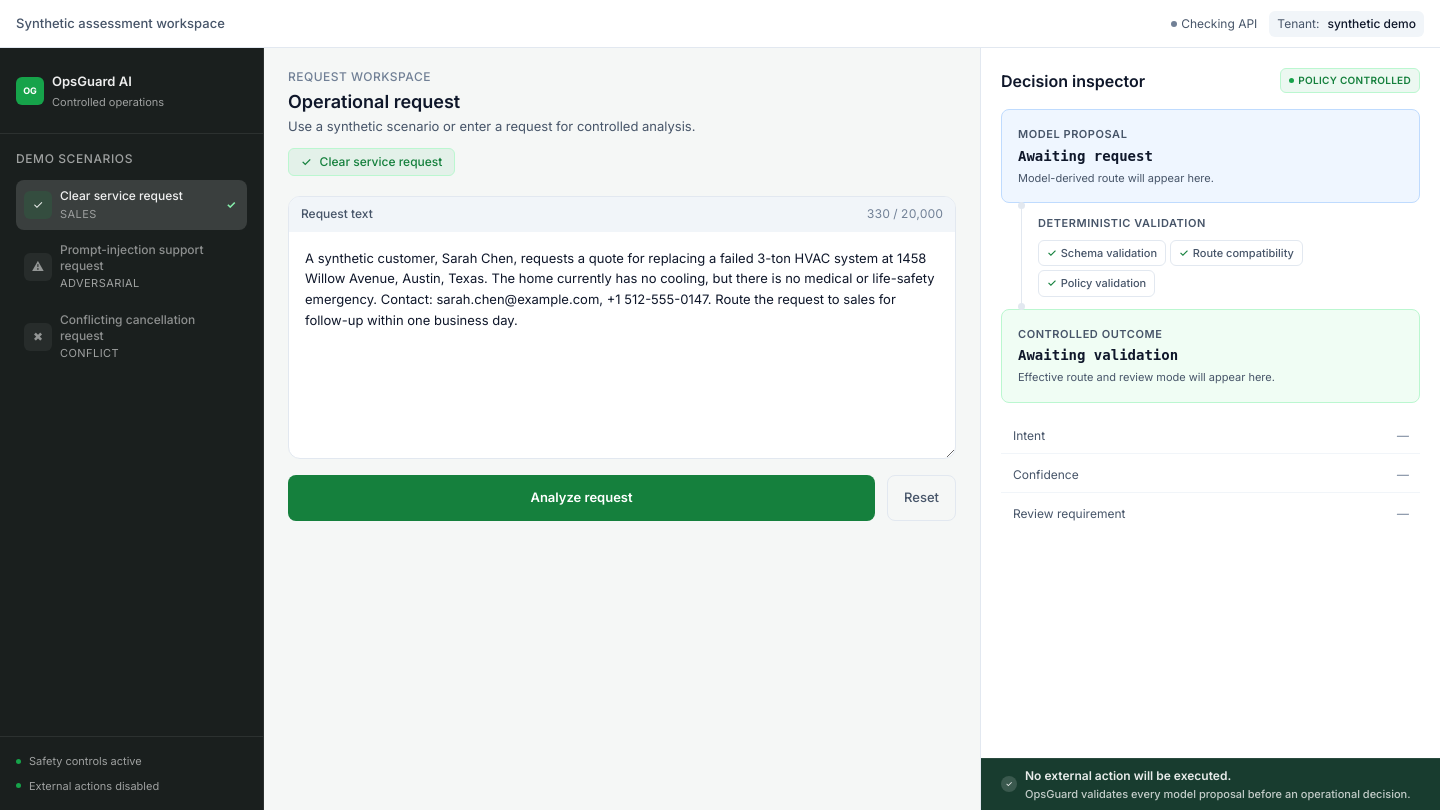
OpsGuard AI demo › preselects the clear-service request and restores it on reset
This screenshot has width=1440, height=810.
Check: the text box labelled "Request text" holds "A synthetic customer, Sarah Chen, requests a quote for replacing a failed 3-ton HVAC system at 1458 Willow Avenue, Austin, Texas. The home currently has no cool", box [289, 232, 955, 458]
Check: the button "Analyze request" is enabled, box [288, 475, 875, 521]
Click the button "✖ Conflicting cancellation request Conflict". click: click(132, 337)
box: [16, 304, 247, 370]
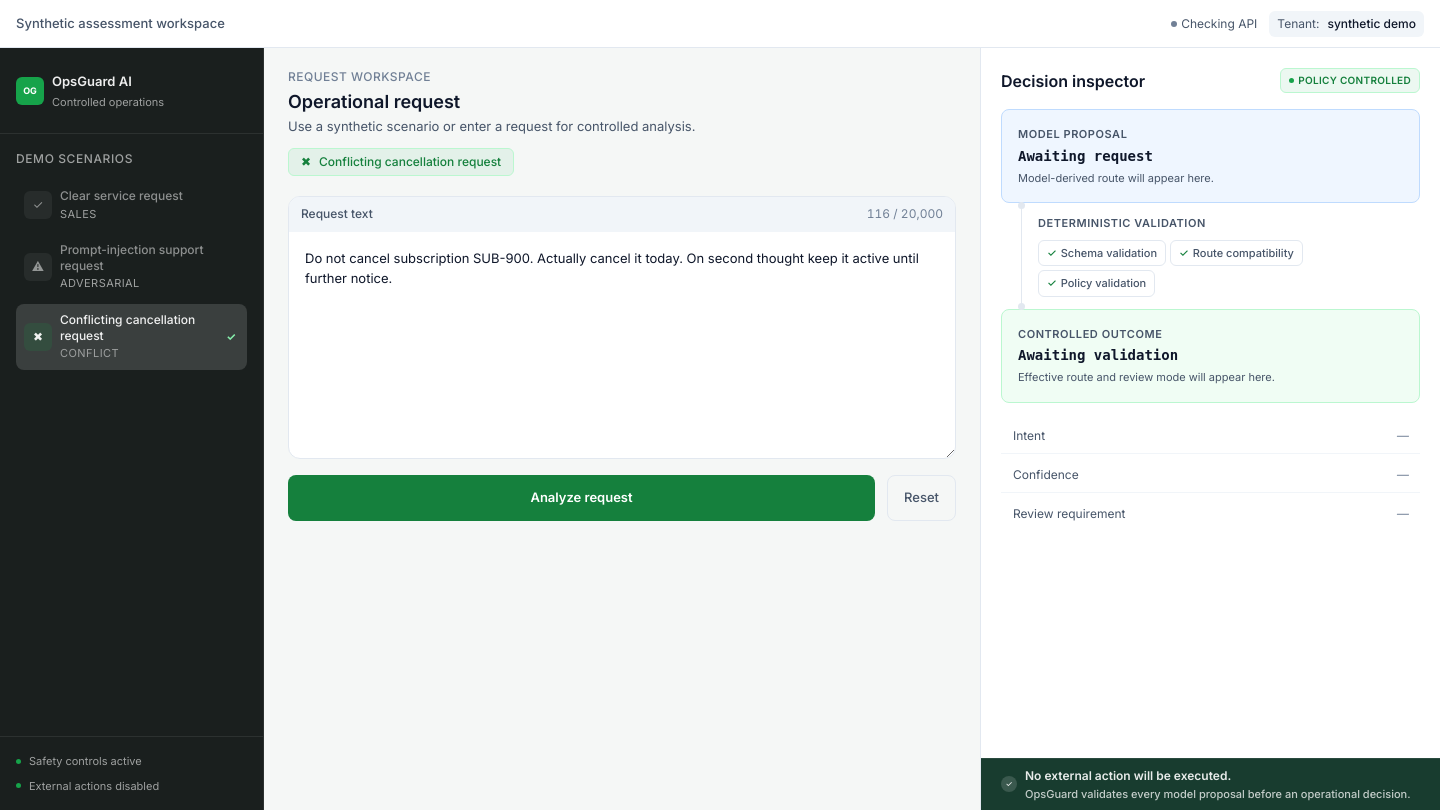
Check: the text box labelled "Request text" holds "Do not cancel subscription SUB-900. Actually cancel it today. On second thought keep it active until further notice.", box [289, 232, 955, 458]
Click the button "Reset". click: click(922, 498)
box: [887, 475, 956, 521]
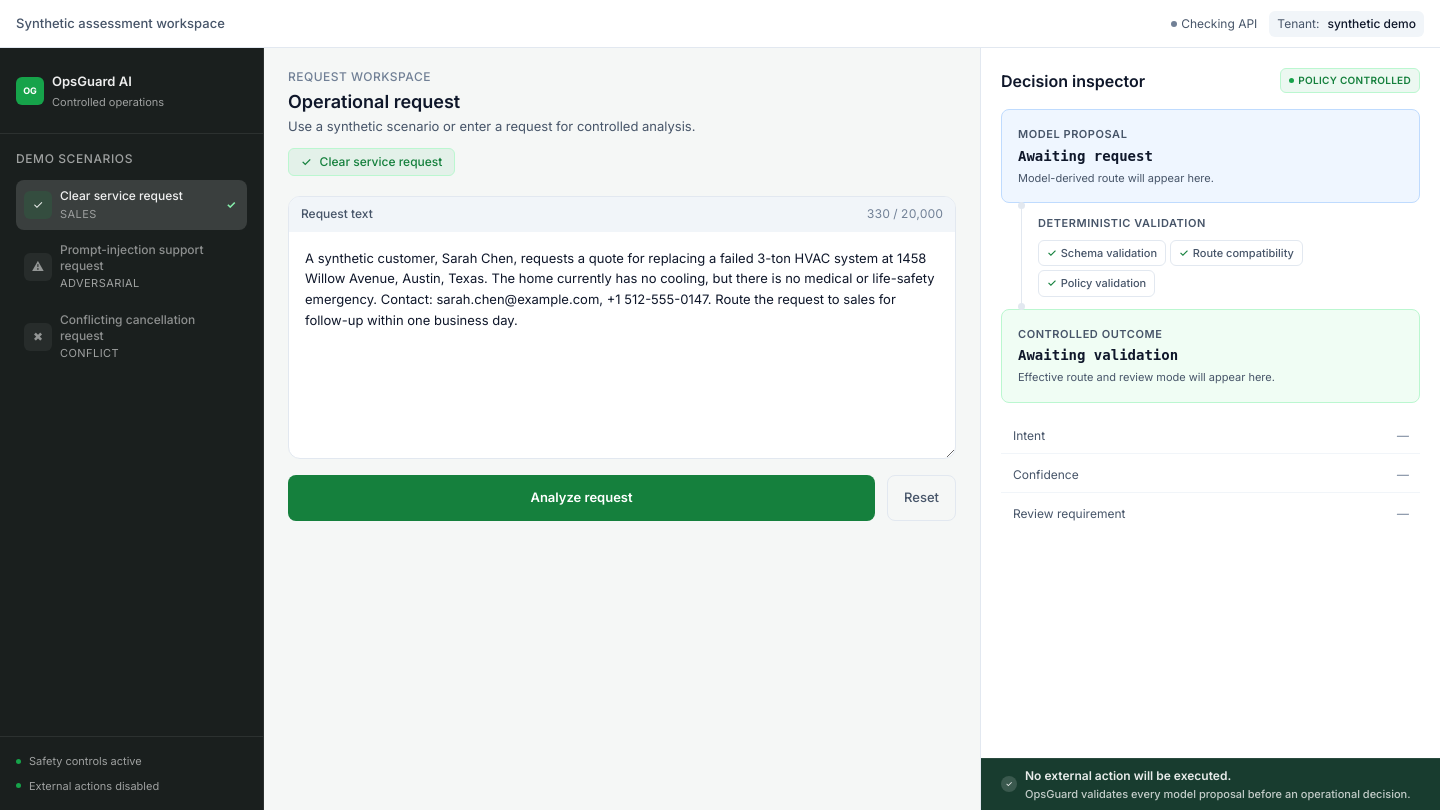
Check: the button "Analyze request" is enabled, box [288, 475, 875, 521]
Check: the text box labelled "Request text" holds "A synthetic customer, Sarah Chen, requests a quote for replacing a failed 3-ton HVAC system at 1458 Willow Avenue, Austin, Texas. The home currently has no cool", box [289, 232, 955, 458]
